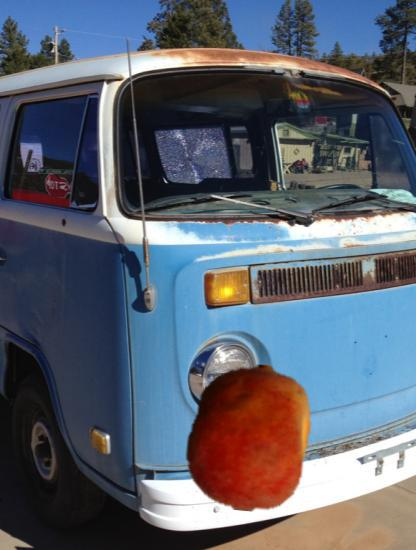Peach: (176, 364, 324, 512)
